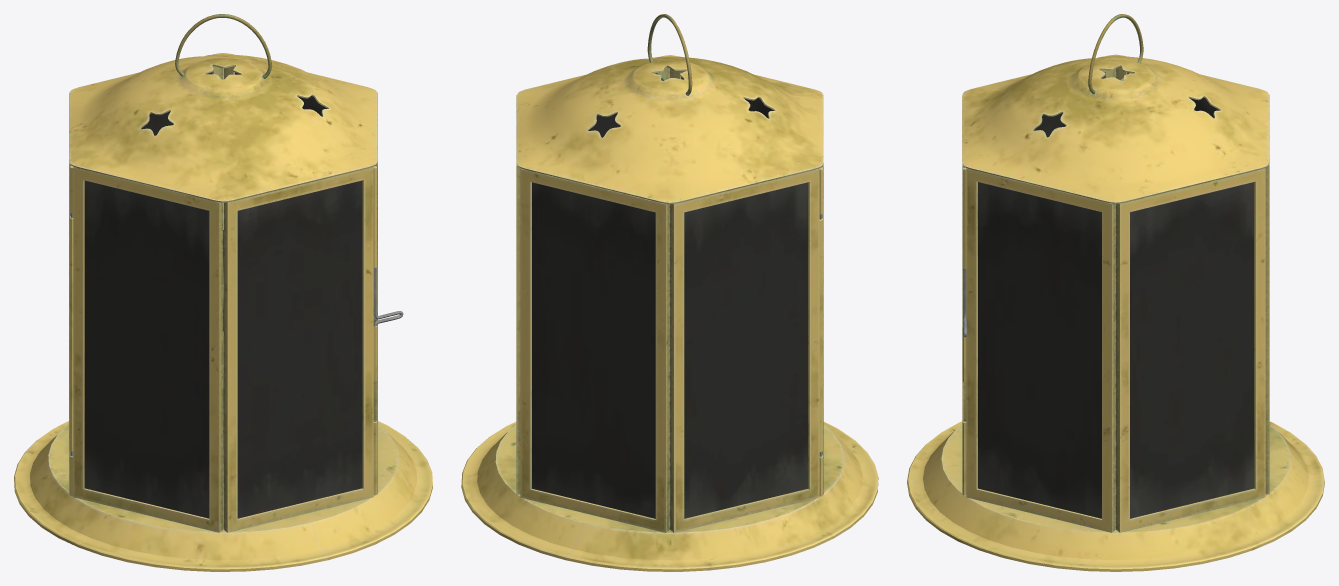
The model's file is brass-diya-lantern.glb.
3 views of the same model, side by side, from view 1: azimuth 30°, elevation 25°; view 2: azimuth 150°, elevation 25°; view 3: azimuth 270°, elevation 25° (orthographic).
Visible parts, largest first — view 1: brass_diya_lantern, brass_diya_lantern_connection; view 2: brass_diya_lantern, brass_diya_lantern_connection; view 3: brass_diya_lantern, brass_diya_lantern_connection.
Boxes of the visible parts, box(x1,y1,x2,y2) form: brass_diya_lantern: box(14, 53, 432, 571); brass_diya_lantern_connection: box(175, 14, 271, 78); brass_diya_lantern: box(461, 55, 878, 571); brass_diya_lantern_connection: box(647, 14, 692, 95); brass_diya_lantern: box(907, 54, 1324, 571); brass_diya_lantern_connection: box(1088, 14, 1143, 94).
Size of the model in its own units: 0.123 by 0.1518 by 0.123.
Materials: 3 (3 with a texture image).
